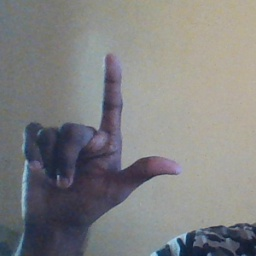L: (20, 50, 186, 228)
